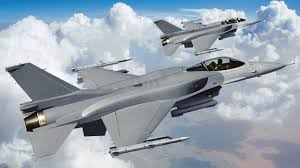fighter: (5, 52, 293, 160), (153, 13, 262, 59)
